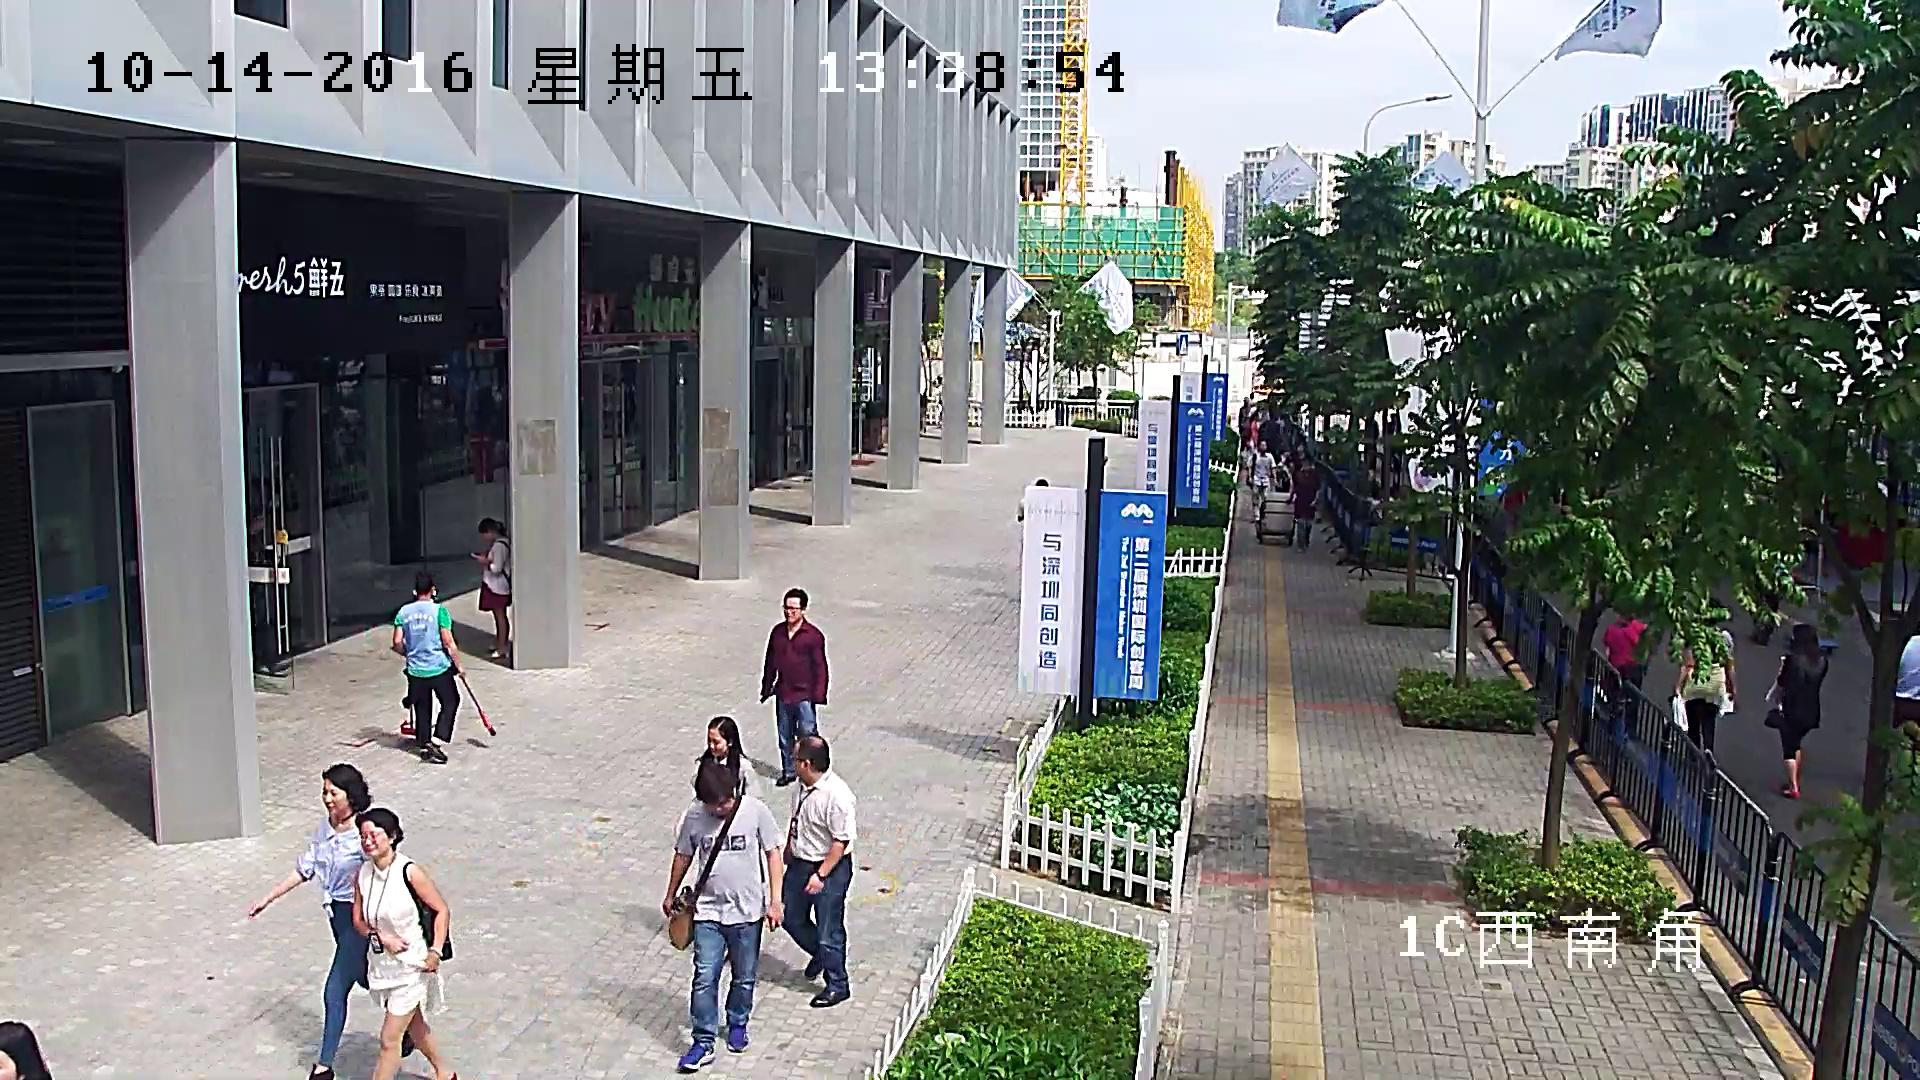person: (247, 763, 413, 1080), (664, 762, 784, 1069), (353, 807, 455, 1080), (780, 734, 857, 1006), (392, 574, 496, 763), (689, 716, 764, 963), (392, 574, 465, 763), (760, 588, 827, 785), (1672, 598, 1737, 796), (1763, 625, 1829, 799), (247, 503, 290, 674), (1256, 456, 1321, 550), (469, 517, 511, 657), (1602, 606, 1649, 733), (1286, 457, 1321, 549), (1245, 439, 1275, 522), (1893, 634, 1920, 728), (1258, 415, 1280, 456), (1239, 396, 1256, 448), (1243, 410, 1258, 449)
